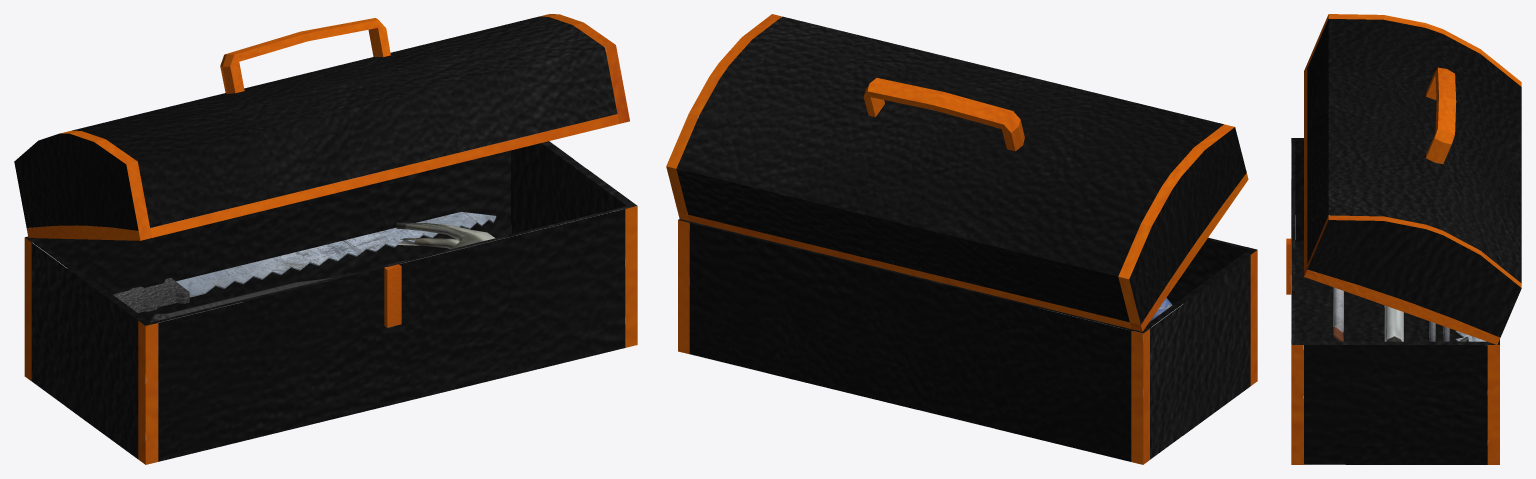
Rendered from toolBox_with_tools.fbx.
3 renders of one model, left to right at view 1: azimuth 30°, elevation 25°; view 2: azimuth 150°, elevation 25°; view 3: azimuth 270°, elevation 25°, orthographic. The views are drawn at different scales.
Visible parts, largest first — view 1: toolBox, top, Saw, hamer; view 2: top, toolBox; view 3: top, toolBox, hamer, SCRAWdRIVE.
Part boxes in pixels (box(x1,y1,x2,y2)): toolBox: box(24, 141, 637, 464); top: box(14, 14, 629, 240); Saw: box(113, 212, 496, 312); hamer: box(149, 222, 495, 322); top: box(666, 14, 1248, 331); toolBox: box(678, 219, 1257, 464); top: box(1304, 14, 1521, 344); toolBox: box(1286, 138, 1499, 464); hamer: box(1384, 305, 1468, 341); SCRAWdRIVE: box(1333, 287, 1343, 341).
Bounding box in the file's own units: 590 × 354 × 284.
